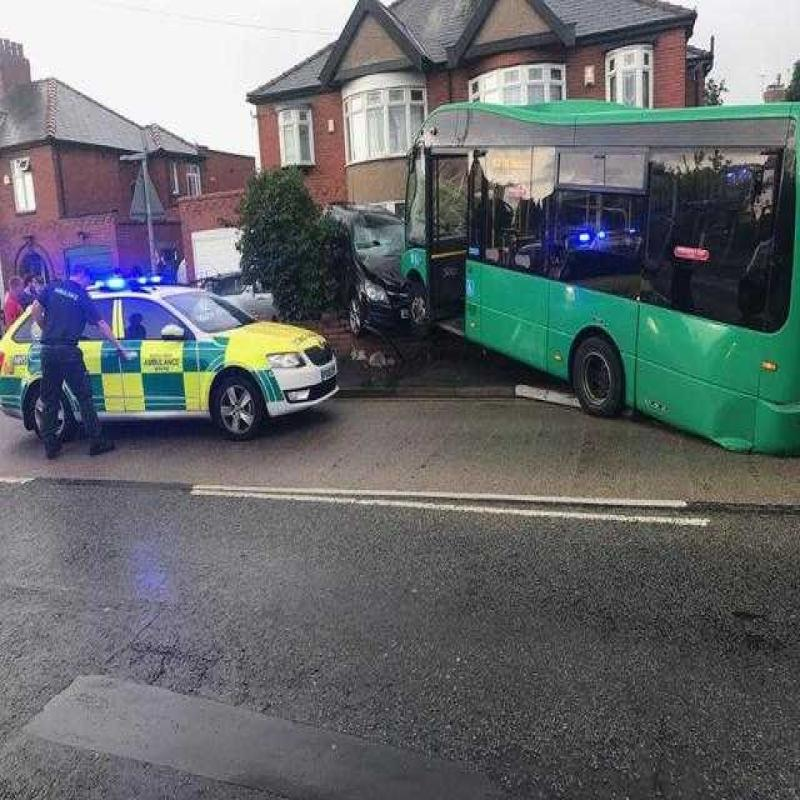bus: (398, 77, 800, 463)
